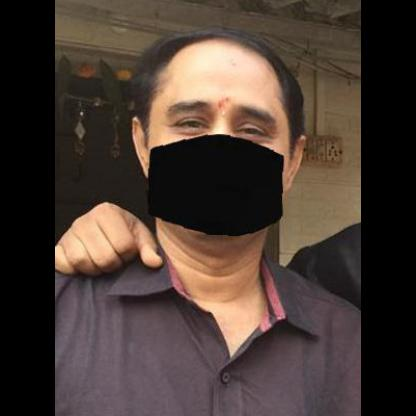Fabric/Cloth Mask: (146, 50, 294, 228)
